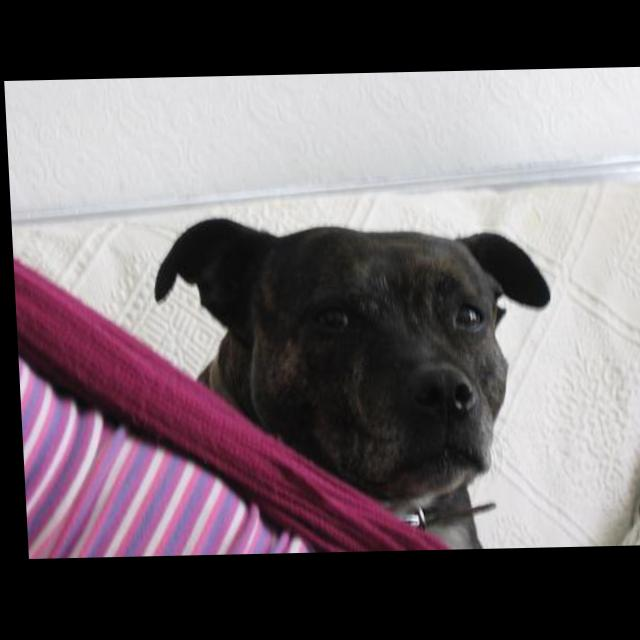amstaff: (149, 212, 561, 558)
